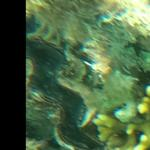dead: (26, 1, 147, 148)
